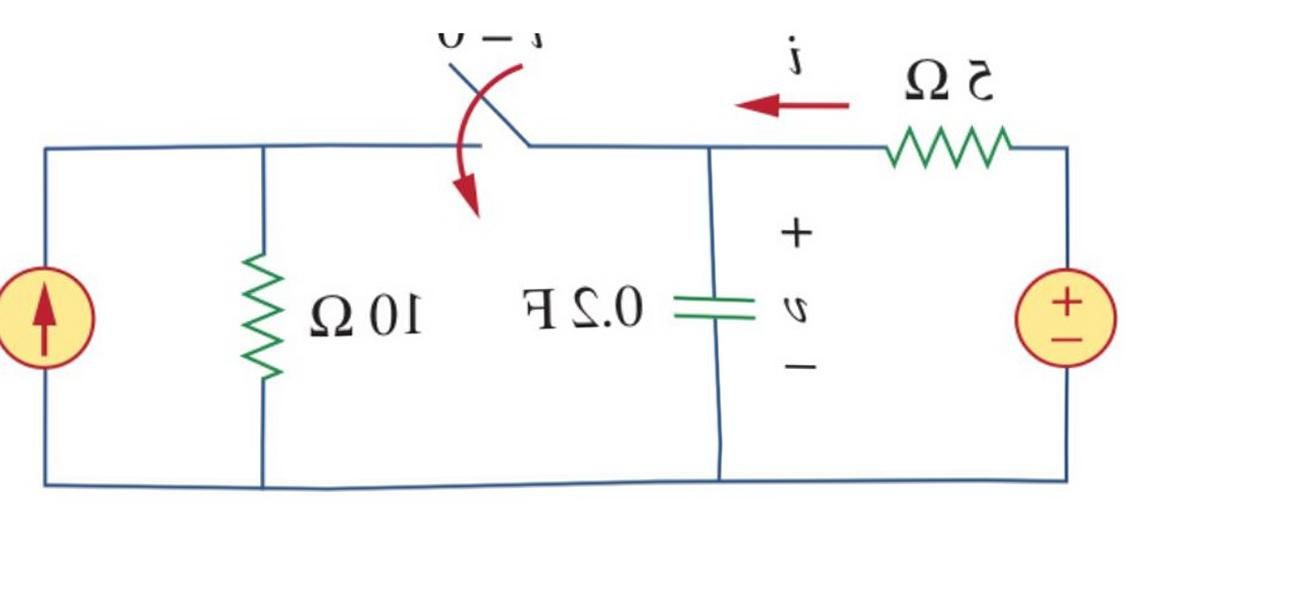Battery: (988, 244, 1144, 384)
